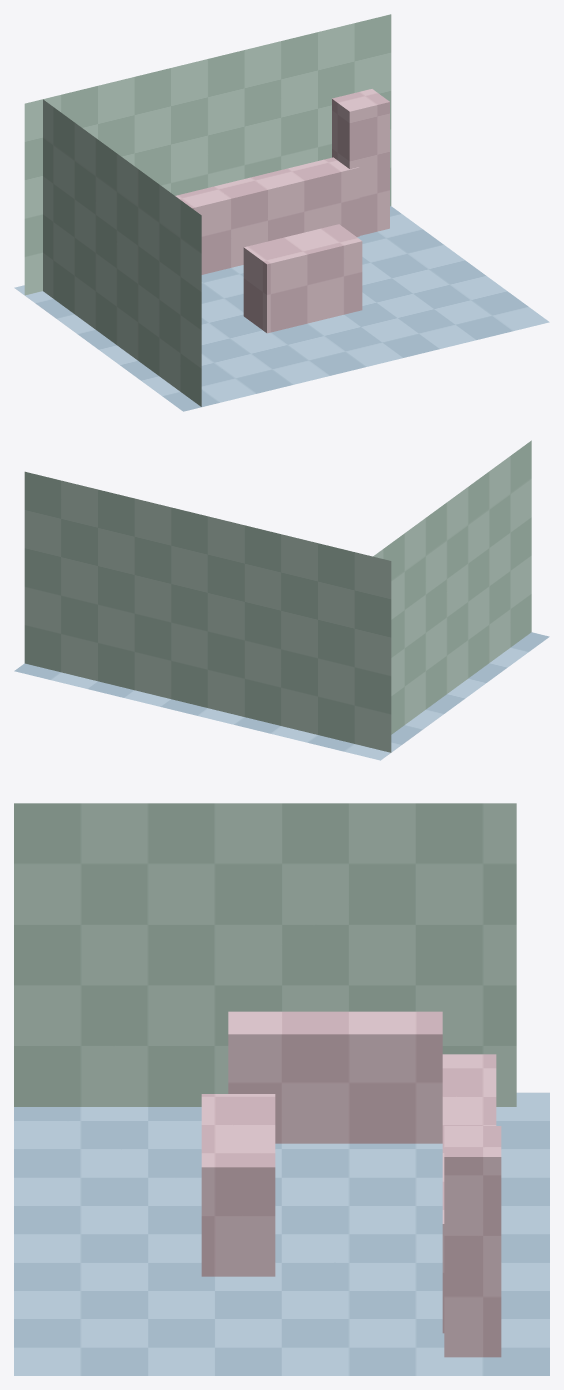
Rendered from result.glb.
3 views of the same model, one above another, from view 1: azimuth 30°, elevation 25°; view 2: azimuth 150°, elevation 25°; view 3: azimuth 270°, elevation 25° (orthographic). The views are drawn at different scales.
Parts seen in each view (by area): view 1: Viewer baked procedural surfaces; view 2: Viewer baked procedural surfaces; view 3: Viewer baked procedural surfaces.
Boxes of the visible parts, x1,y1,x2,y2 form: Viewer baked procedural surfaces: (14, 14, 549, 411); Viewer baked procedural surfaces: (14, 440, 549, 760); Viewer baked procedural surfaces: (14, 803, 549, 1375).
Bounding box in the file's own units: 10 × 5 × 8.
3 materials, 3 textured.
